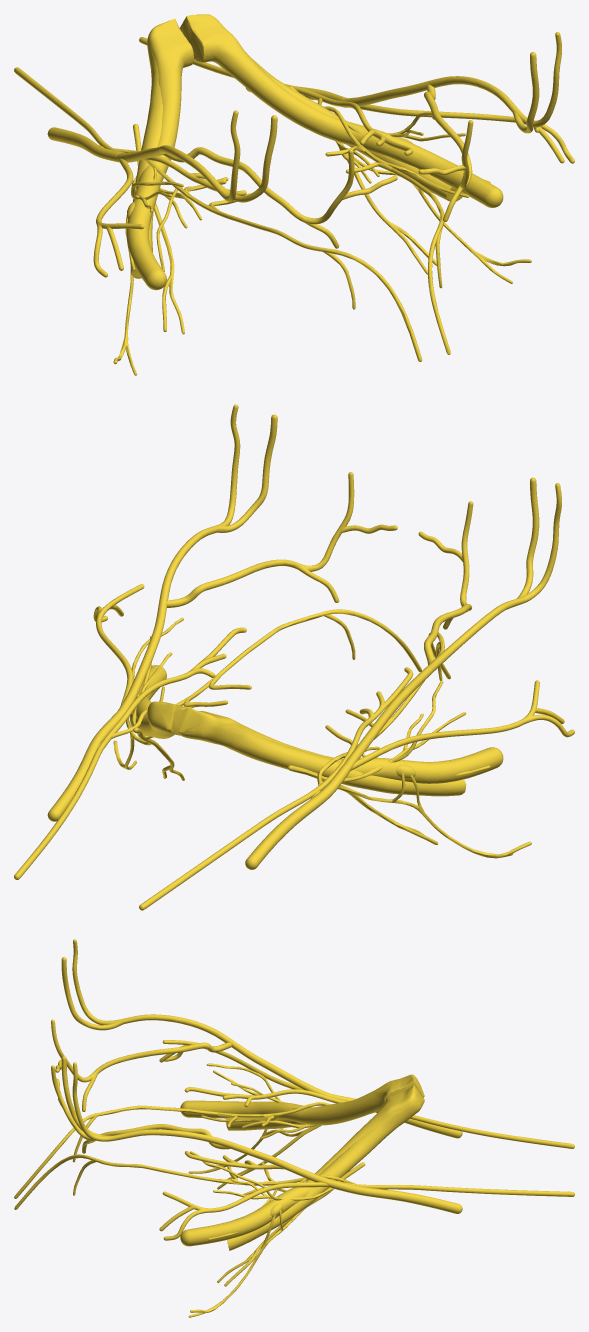
Rendered from nervous_peripheral.head.glb.
3 views of the same model, one above another, from view 1: azimuth 30°, elevation 25°; view 2: azimuth 150°, elevation 25°; view 3: azimuth 270°, elevation 25° (orthographic). The views are drawn at different scales.
Parts seen in each view (by area): view 1: left_optic_nerve, right_optic_nerve, left_supra_orbital_nerve, right_supratrochlear_nerve, right_supra_orbital_nerve, inferior_branch_of_left_oculomotor_nerve, inferior_branch_of_right_oculomotor_nerve, right_nasociliary_nerve, left_supratrochlear_nerve, left_nasociliary_nerve, left_lacrimal_nerve, right_trochlear_nerve (+6 smaller); view 2: right_optic_nerve, right_supra_orbital_nerve, left_supra_orbital_nerve, left_supratrochlear_nerve, right_trochlear_nerve, left_trochlear_nerve, right_lacrimal_nerve, inferior_branch_of_right_oculomotor_nerve, left_optic_nerve, right_ophthalmic_nerve, right_supratrochlear_nerve, left_nasociliary_nerve (+7 smaller); view 3: left_optic_nerve, right_optic_nerve, right_supra_orbital_nerve, left_supra_orbital_nerve, right_trochlear_nerve, left_trochlear_nerve, right_supratrochlear_nerve, inferior_branch_of_left_oculomotor_nerve, left_ophthalmic_nerve, right_nasociliary_nerve, left_lacrimal_nerve, left_nasociliary_nerve (+8 smaller).
Boxes of the visible parts, left/top/right/bottom form: left_optic_nerve: left=179, top=14, right=503, bottom=207; right_optic_nerve: left=126, top=19, right=193, bottom=290; left_supra_orbital_nerve: left=427, top=32, right=561, bottom=133; right_supratrochlear_nerve: left=162, top=147, right=397, bottom=248; right_supra_orbital_nerve: left=159, top=110, right=277, bottom=202; inferior_branch_of_left_oculomotor_nerve: left=289, top=86, right=531, bottom=283; inferior_branch_of_right_oculomotor_nerve: left=113, top=124, right=202, bottom=375; right_nasociliary_nerve: left=99, top=145, right=422, bottom=361; left_supratrochlear_nerve: left=418, top=84, right=473, bottom=221; left_nasociliary_nerve: left=317, top=97, right=450, bottom=354; left_lacrimal_nerve: left=360, top=104, right=574, bottom=163; right_trochlear_nerve: left=14, top=67, right=246, bottom=195; right_optic_nerve: left=178, top=707, right=503, bottom=796; right_supra_orbital_nerve: left=428, top=477, right=561, bottom=671; left_supra_orbital_nerve: left=159, top=404, right=277, bottom=602; left_supratrochlear_nerve: left=167, top=472, right=397, bottom=607; right_trochlear_nerve: left=139, top=667, right=413, bottom=910; left_trochlear_nerve: left=14, top=627, right=246, bottom=879; right_lacrimal_nerve: left=351, top=680, right=574, bottom=770; inferior_branch_of_right_oculomotor_nerve: left=287, top=746, right=531, bottom=858; left_optic_nerve: left=129, top=665, right=189, bottom=738; right_ophthalmic_nerve: left=245, top=765, right=349, bottom=869; right_supratrochlear_nerve: left=418, top=501, right=473, bottom=664; left_nasociliary_nerve: left=97, top=609, right=422, bottom=747; left_optic_nerve: left=180, top=1085, right=424, bottom=1250; right_optic_nerve: left=180, top=1074, right=424, bottom=1130; right_supra_orbital_nerve: left=61, top=939, right=233, bottom=1042; left_supra_orbital_nerve: left=61, top=1056, right=233, bottom=1148; right_trochlear_nerve: left=184, top=1087, right=574, bottom=1148; left_trochlear_nerve: left=185, top=1151, right=574, bottom=1196; right_supratrochlear_nerve: left=51, top=1019, right=231, bottom=1111; inferior_branch_of_left_oculomotor_nerve: left=188, top=1162, right=365, bottom=1317; left_ophthalmic_nerve: left=329, top=1180, right=462, bottom=1213; right_nasociliary_nerve: left=14, top=1102, right=330, bottom=1198; left_lacrimal_nerve: left=159, top=1182, right=328, bottom=1240; left_nasociliary_nerve: left=14, top=1154, right=355, bottom=1209.
Size of the model in its own units: 0.087 by 0.0548 by 0.1138.
